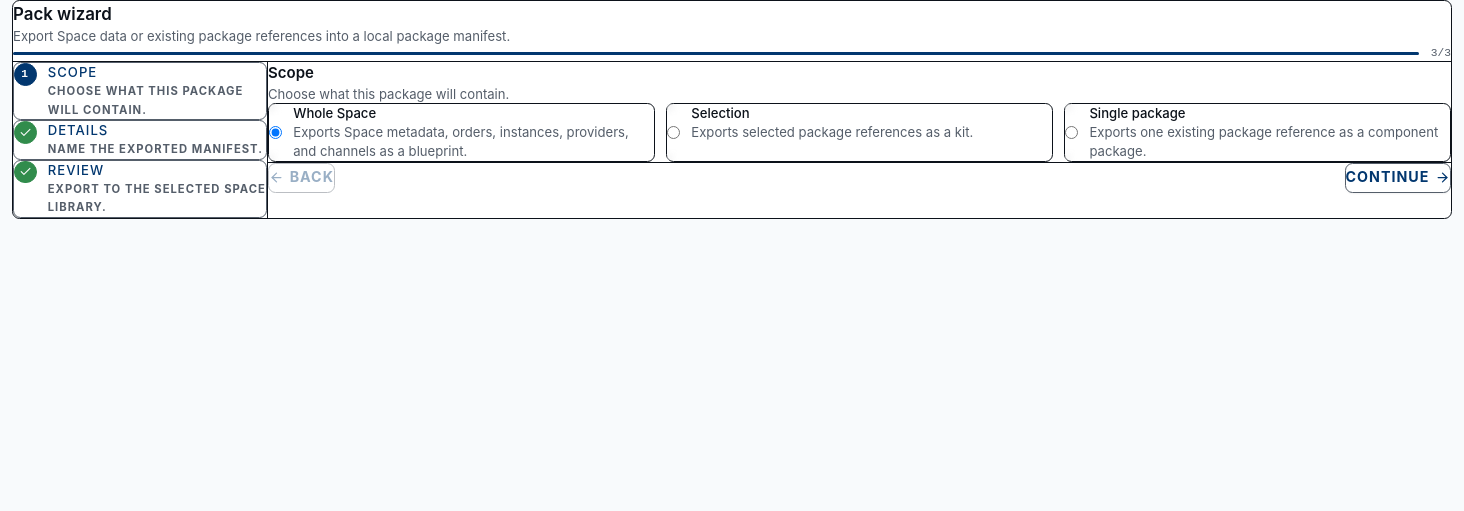
Test: surfaces backend export evidence without enabling install execution
The width and height of the screenshot is (1464, 511).
Click the button "Continue".
click(1398, 178)  # box x1=1344 y1=162 x2=1451 y2=192
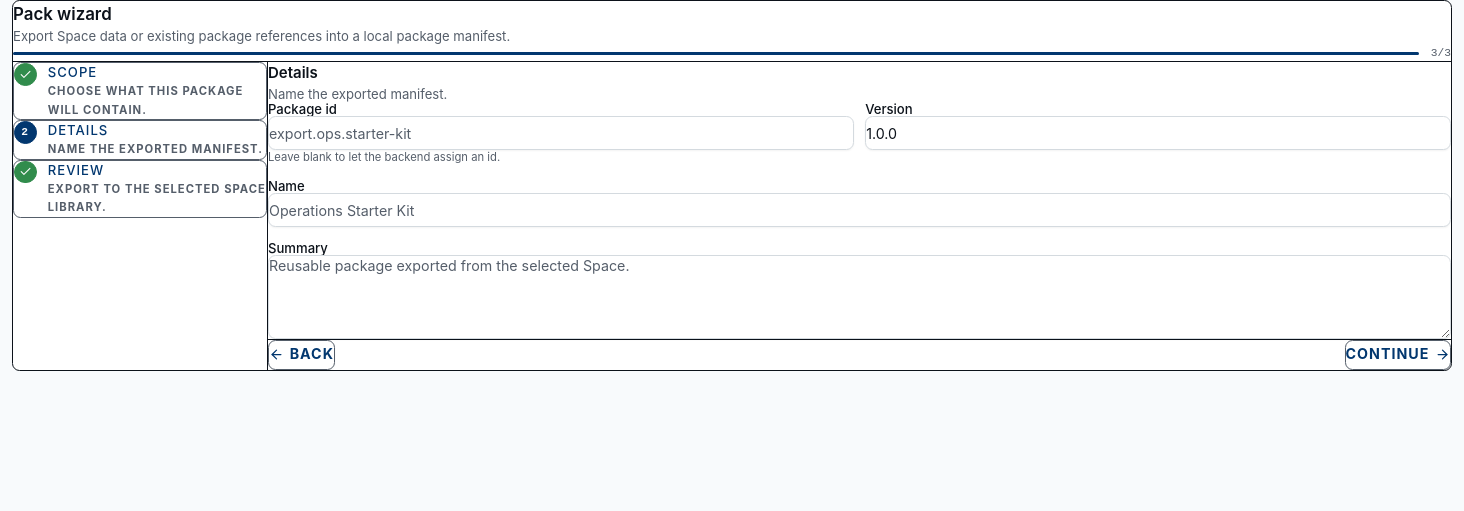
Click the button "Continue".
click(1398, 354)  # box x1=1344 y1=340 x2=1451 y2=370
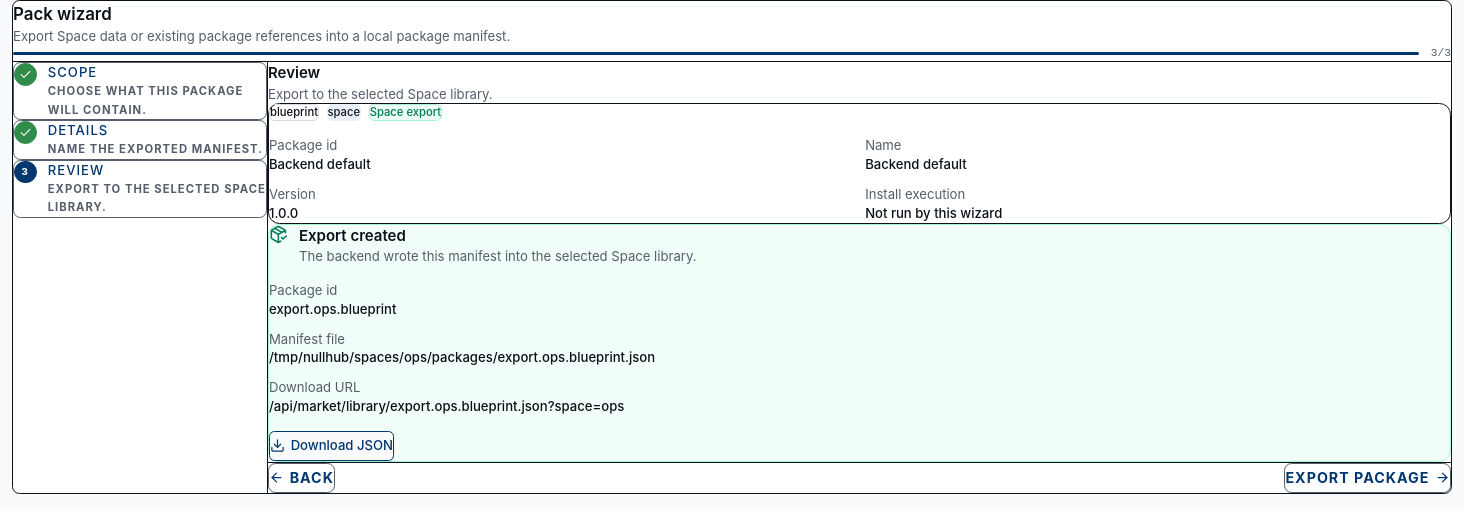
expect the heading "Export created" is shown: met, box x1=299 y1=226 x2=406 y2=244
expect the text "Not run by this wizard" is shown: met, box x1=865 y1=205 x2=1002 y2=221
